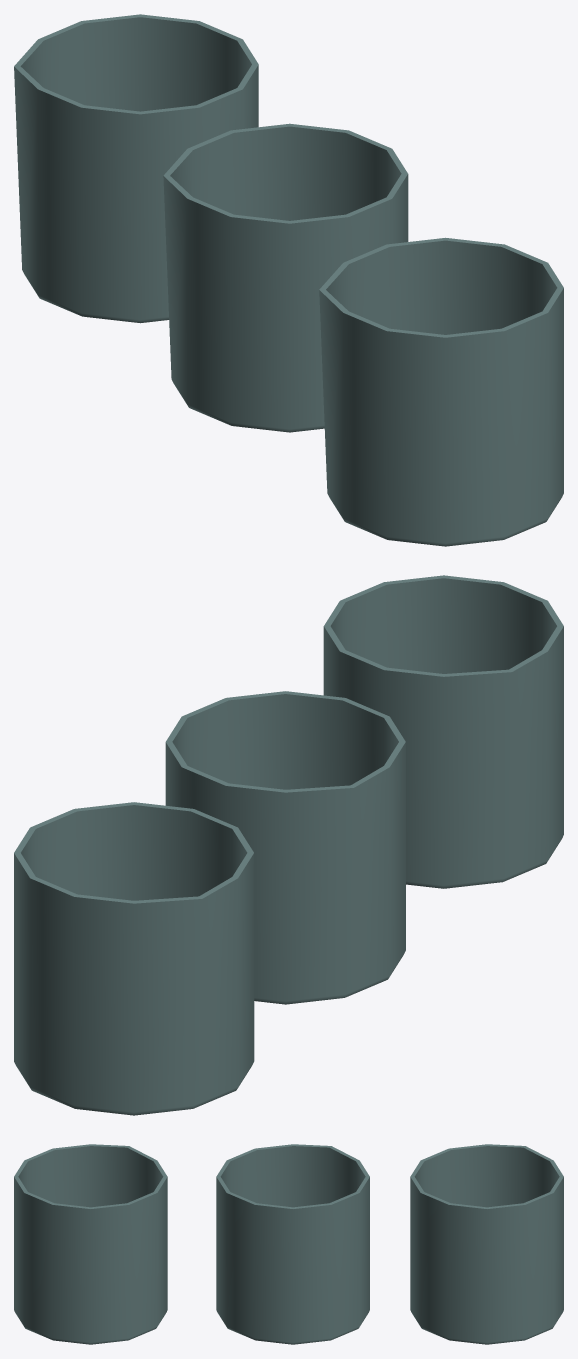
Rendered from dilution.fbx.
The picture shows the model from 3 angles, top to bottom: view 1: azimuth 30°, elevation 25°; view 2: azimuth 150°, elevation 25°; view 3: azimuth 270°, elevation 25°; orthographic projection. The views are drawn at different scales.
Parts seen in each view (by area): view 1: pCylinder47, pCylinder45, pCylinder49; view 2: pCylinder49, pCylinder47, pCylinder45; view 3: pCylinder49, pCylinder45, pCylinder47.
Boxes of the visible parts, box(x1,y1,x2,y2) form: pCylinder47: box(319, 237, 563, 546); pCylinder45: box(163, 123, 408, 432); pCylinder49: box(14, 14, 258, 323); pCylinder49: box(14, 802, 254, 1115); pCylinder47: box(323, 575, 563, 888); pCylinder45: box(165, 691, 405, 1004); pCylinder49: box(410, 1144, 563, 1344); pCylinder45: box(216, 1144, 369, 1344); pCylinder47: box(14, 1144, 167, 1344).
Size of the model in its own units: 12.19 by 12.01 by 43.63.
